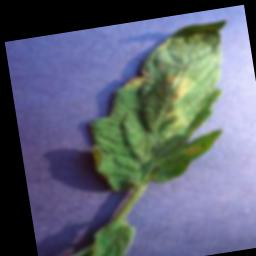Leaf_Mold: (154, 66, 201, 132)
